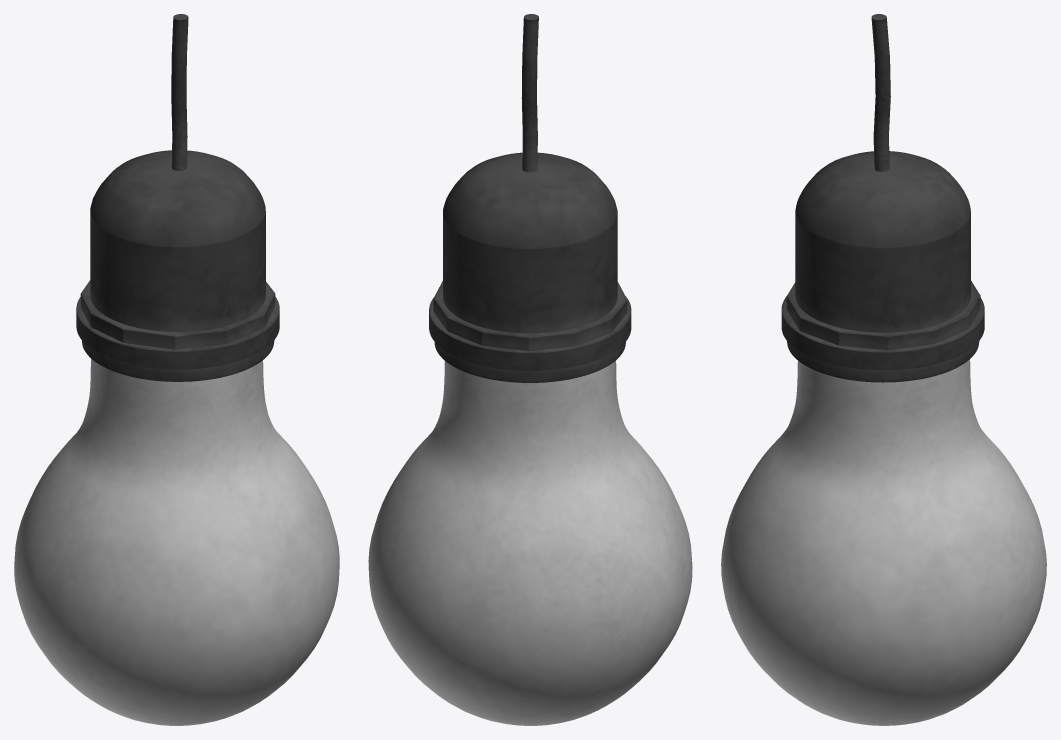
File: SM_hanginglight_01a.fbx
3 views of the same model, side by side, from view 1: azimuth 30°, elevation 25°; view 2: azimuth 150°, elevation 25°; view 3: azimuth 270°, elevation 25° (orthographic).
Visible parts, largest first — view 1: SM_hanginglight_01a_LOD0; view 2: SM_hanginglight_01a_LOD0; view 3: SM_hanginglight_01a_LOD0.
Part boxes in pixels (x1,y1,x2,y2): SM_hanginglight_01a_LOD0: (14, 14, 339, 725); SM_hanginglight_01a_LOD0: (368, 14, 692, 725); SM_hanginglight_01a_LOD0: (721, 14, 1046, 725).
Bounding box in the file's own units: 11.88 × 11.88 × 27.8.
